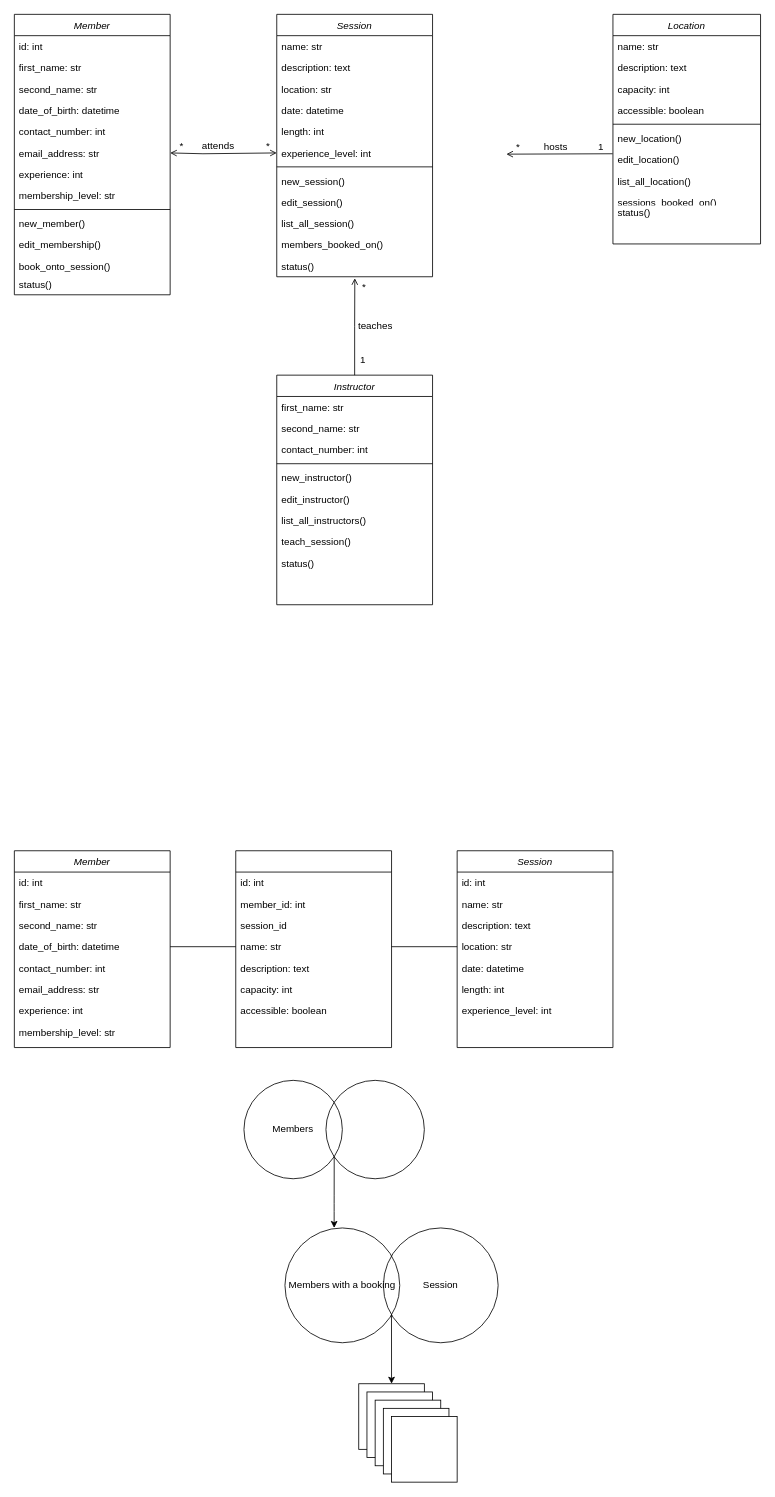
The diagram is 775 pixels wide and 1497 high, and some of its shapes have lost their labels. Each missing label, with the box of its shape:
booking: (235, 850, 392, 1048)
Bookings: (325, 1080, 424, 1179)
